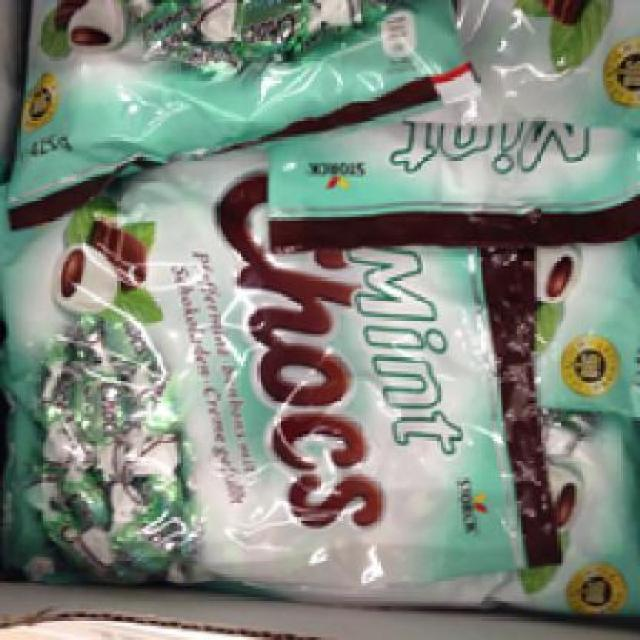Candy: (0, 183, 623, 600)
